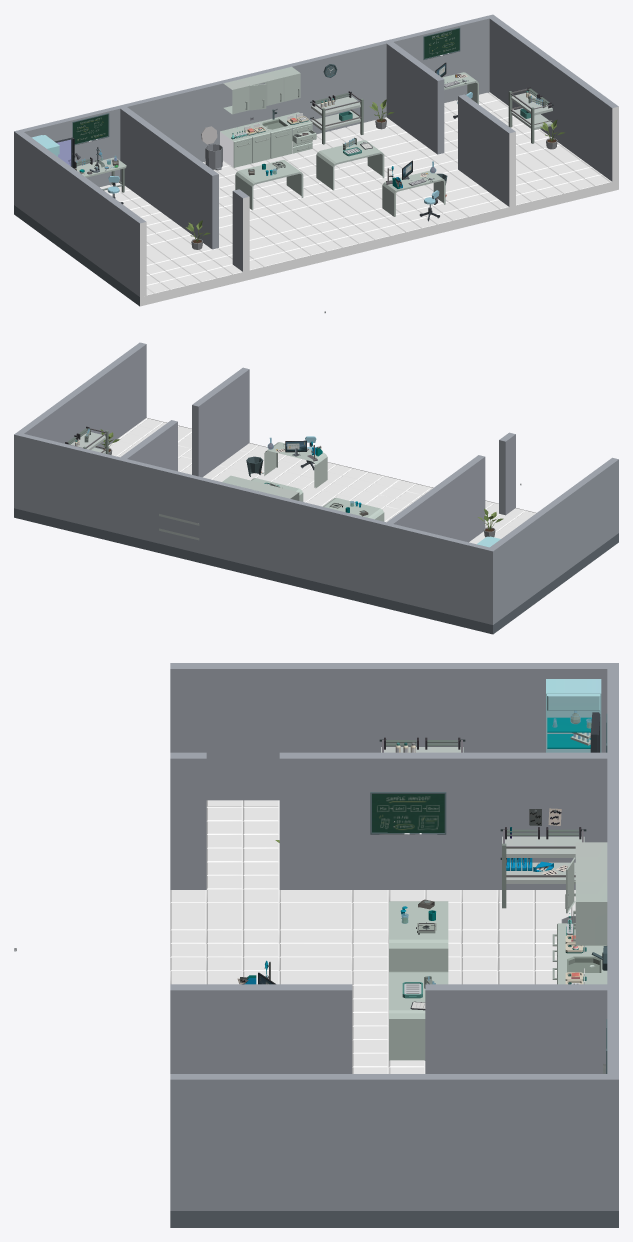
Rendered from Lab_room_3room.glb.
The picture shows the model from 3 angles, top to bottom: view 1: azimuth 30°, elevation 25°; view 2: azimuth 150°, elevation 25°; view 3: azimuth 270°, elevation 25°; orthographic projection. The views are drawn at different scales.
Visible parts, largest first — view 1: floor_and_walls, tile, tweezers, lab_table_right, lab_table_left, table1, board_right_room, board_left_room, bottom_shelf2, shelfC_shelf1, shelfR_shelf1, bottom_shelf4 (+6 smaller); view 2: floor_and_walls, tile, table1, tweezers, lab_table_left; view 3: floor_and_walls, tile, tweezers, lab_table_left, frame .002, lab_table_right, shelf1, main, top_plastic, bottom_shelf2.
Boxes of the visible parts, left/top/right/bottom form: floor_and_walls: left=14, top=14, right=618, bottom=306; tile: left=100, top=92, right=611, bottom=295; tweezers: left=223, top=66, right=300, bottom=114; lab_table_right: left=316, top=140, right=384, bottom=190; lab_table_left: left=235, top=160, right=303, bottom=210; table1: left=382, top=170, right=445, bottom=216; board_right_room: left=423, top=27, right=460, bottom=59; board_left_room: left=72, top=113, right=109, bottom=144; bottom_shelf2: left=257, top=117, right=292, bottom=158; shelfC_shelf1: left=311, top=96, right=360, bottom=130; shelfR_shelf1: left=511, top=93, right=552, bottom=129; bottom_shelf4: left=220, top=127, right=251, bottom=167; floor_and_walls: left=14, top=342, right=618, bottom=634; tile: left=108, top=418, right=535, bottom=544; table1: left=264, top=442, right=327, bottom=488; tweezers: left=222, top=475, right=299, bottom=500; lab_table_left: left=323, top=497, right=384, bottom=521; floor_and_walls: left=170, top=663, right=618, bottom=1227; tile: left=170, top=800, right=575, bottom=1073; tweezers: left=565, top=842, right=607, bottom=945; lab_table_left: left=389, top=901, right=448, bottom=971; frame .002: left=370, top=792, right=446, bottom=834; lab_table_right: left=389, top=971, right=448, bottom=1060; shelf1: left=502, top=836, right=584, bottom=883; main: left=546, top=679, right=601, bottom=752; top_plastic: left=547, top=694, right=600, bottom=710; bottom_shelf2: left=557, top=955, right=607, bottom=974.
Bounding box in the file's own units: 6.51 × 1.2 × 3.99.
38 materials, 10 textured.
